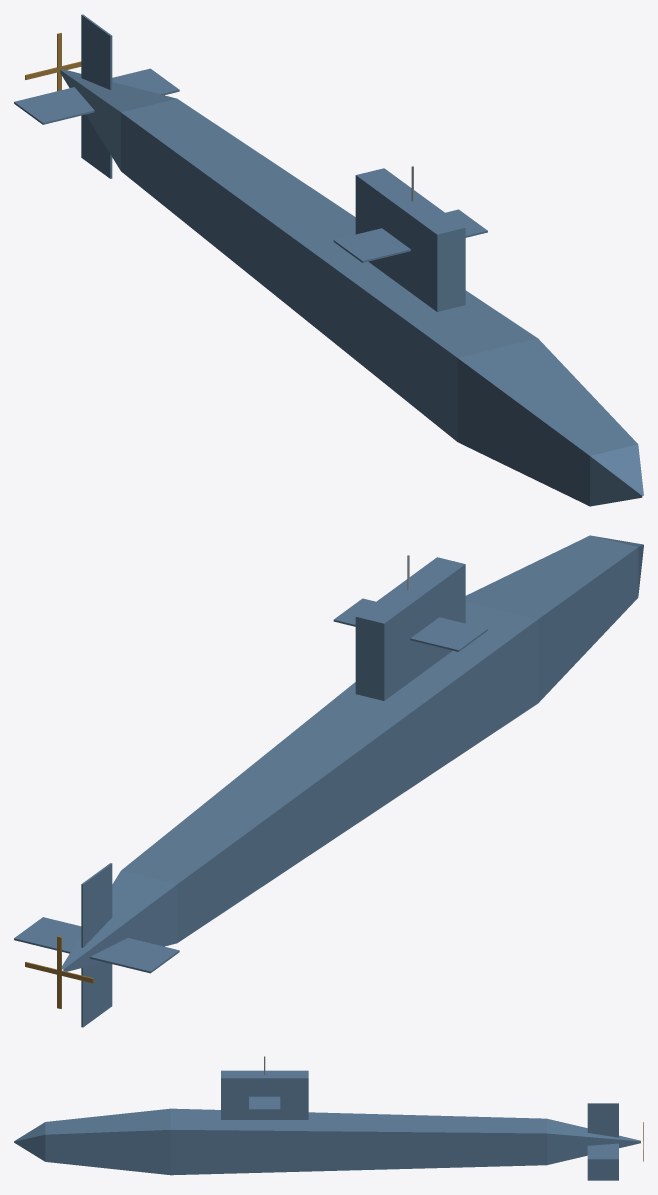
Rendered from veh_naval_submarine_a10_lod2.glb.
The picture shows the model from 3 angles, top to bottom: view 1: azimuth 30°, elevation 25°; view 2: azimuth 150°, elevation 25°; view 3: azimuth 270°, elevation 25°; orthographic projection. The views are drawn at different scales.
Visible parts, largest first — view 1: body; view 2: body, propeller; view 3: body.
Part boxes in pixels (x1,y1,x2,y2): body: (14, 14, 643, 506); body: (14, 535, 643, 1027); propeller: (25, 936, 93, 1008); body: (14, 1056, 640, 1180).
Size of the model in its own units: 6.24 by 10.08 by 46.23.
